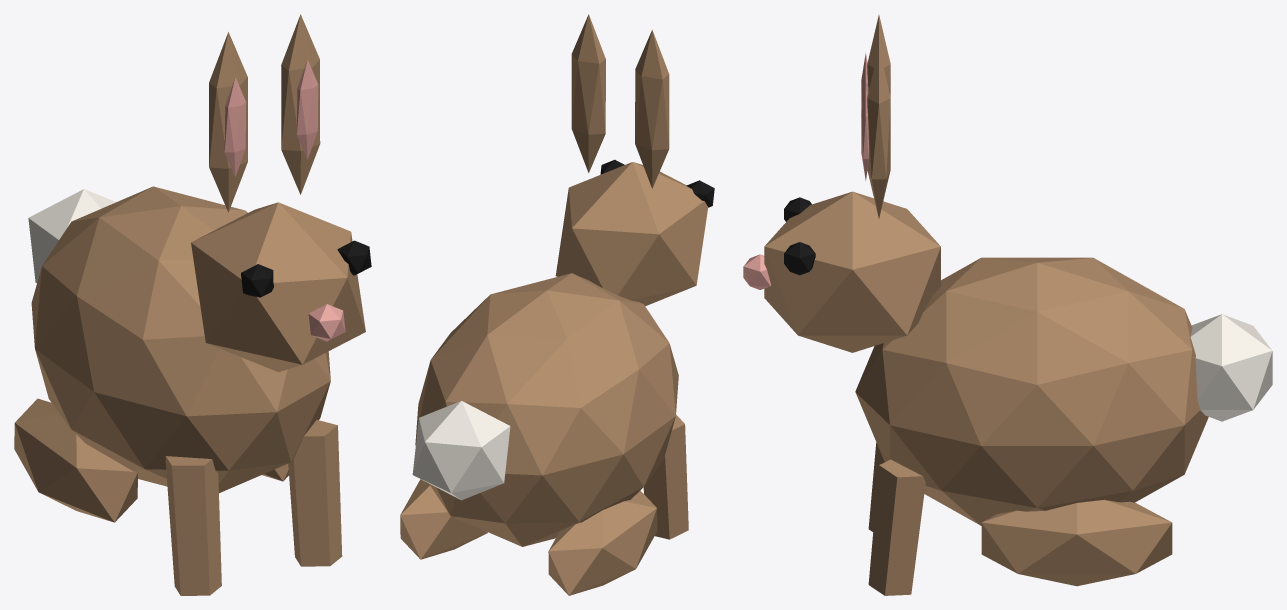
File: rabbit.glb
3 views of the same model, side by side, from view 1: azimuth 30°, elevation 25°; view 2: azimuth 150°, elevation 25°; view 3: azimuth 270°, elevation 25° (orthographic). The views are drawn at different scales.
Parts seen in each view (by area): view 1: body, head, leg_br, leg_fr, leg_fl, ear_l, ear_r; view 2: body, head, leg_br, ear_l, ear_r, leg_bl, leg_fr; view 3: body, head, leg_bl, leg_fl, ear_l, ear_r.
Part boxes in pixels (x1,y1,x2,y2): body: (28,186,330,493); head: (191,202,371,371); leg_br: (14,398,137,522); leg_fr: (165,456,221,595); leg_fl: (288,420,342,566); ear_l: (281,14,320,194); ear_r: (209,32,247,212); body: (412,273,678,546); head: (555,159,714,306); leg_br: (548,490,657,595); ear_l: (571,14,605,172); ear_r: (635,30,669,188); leg_bl: (400,479,487,559); leg_fr: (643,414,688,539); body: (855,257,1272,525); head: (743,191,940,352); leg_bl: (981,499,1172,586); leg_fl: (868,459,925,595); ear_l: (861,48,890,218); ear_r: (861,15,890,112).
Size of the model in its own units: 0.2026 by 0.4434 by 0.401.
